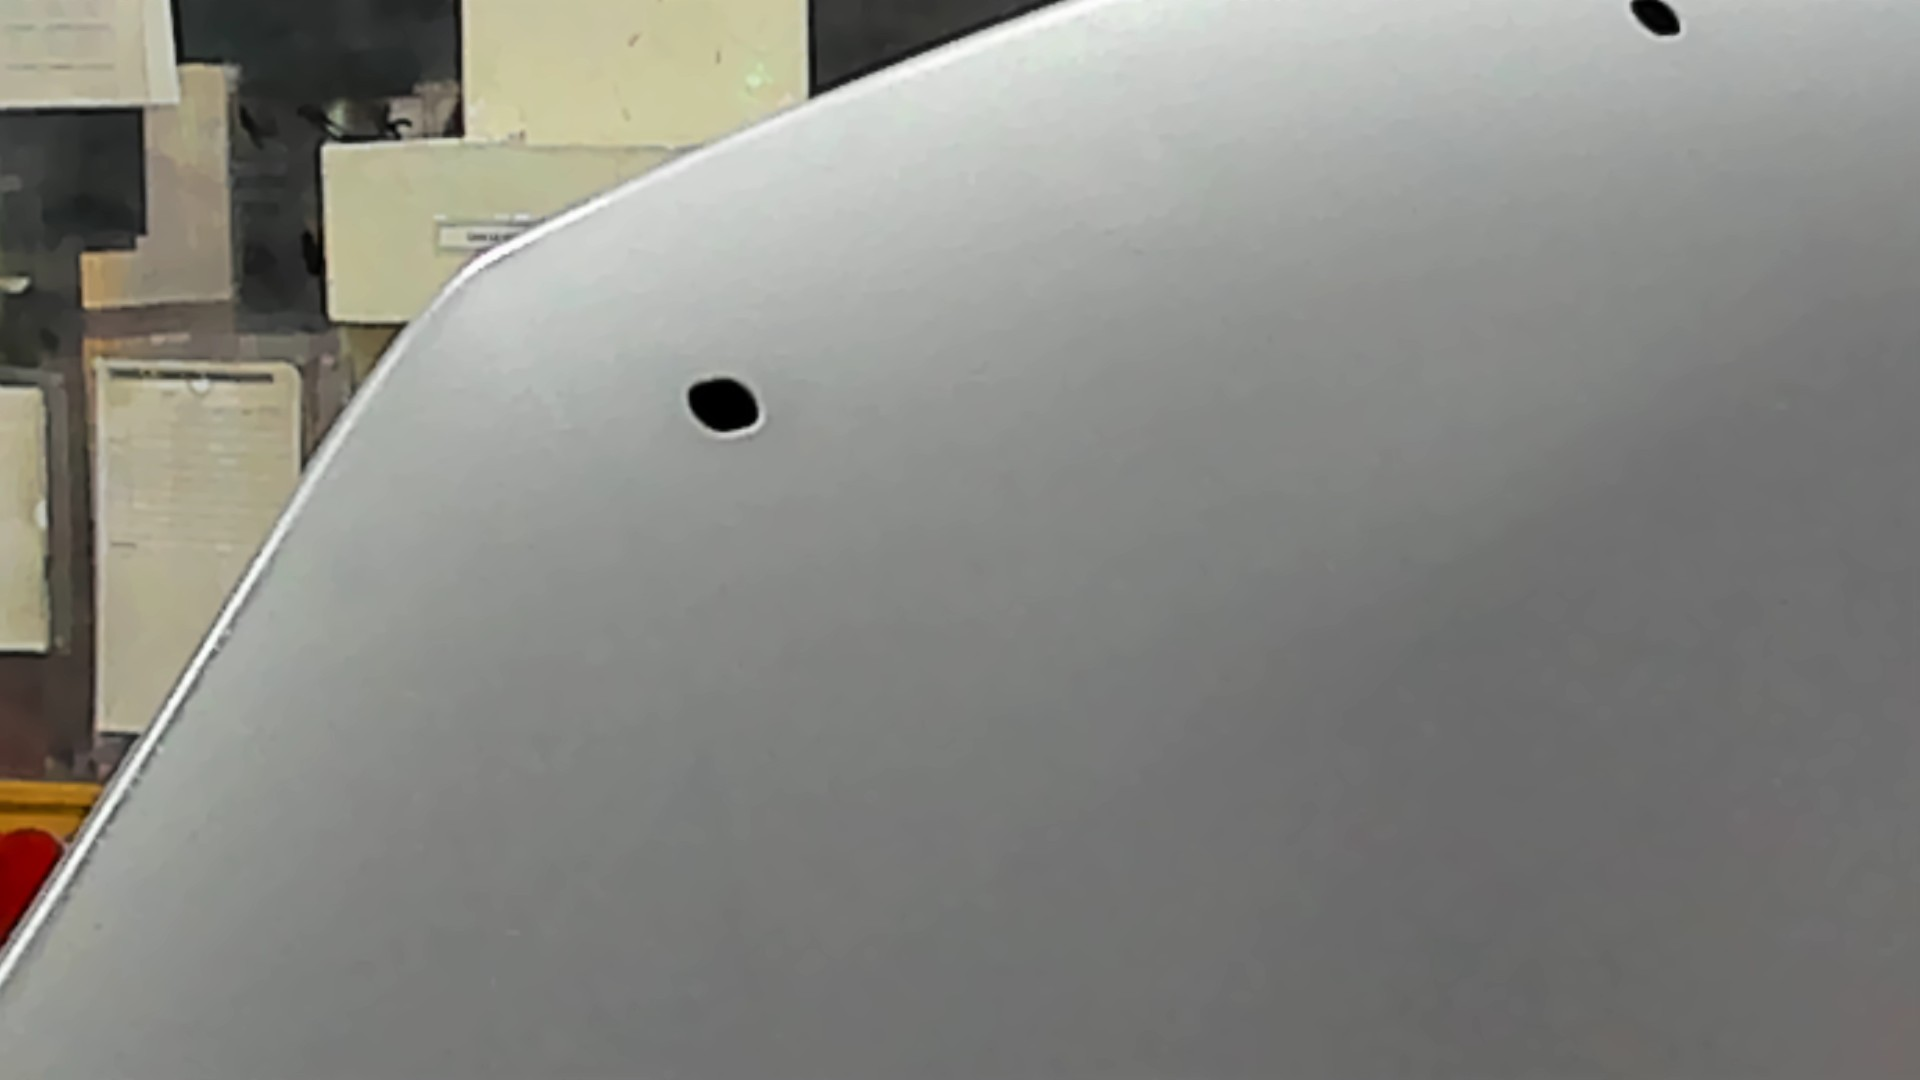chico: (676, 371, 767, 447), (1615, 1, 1700, 49)
